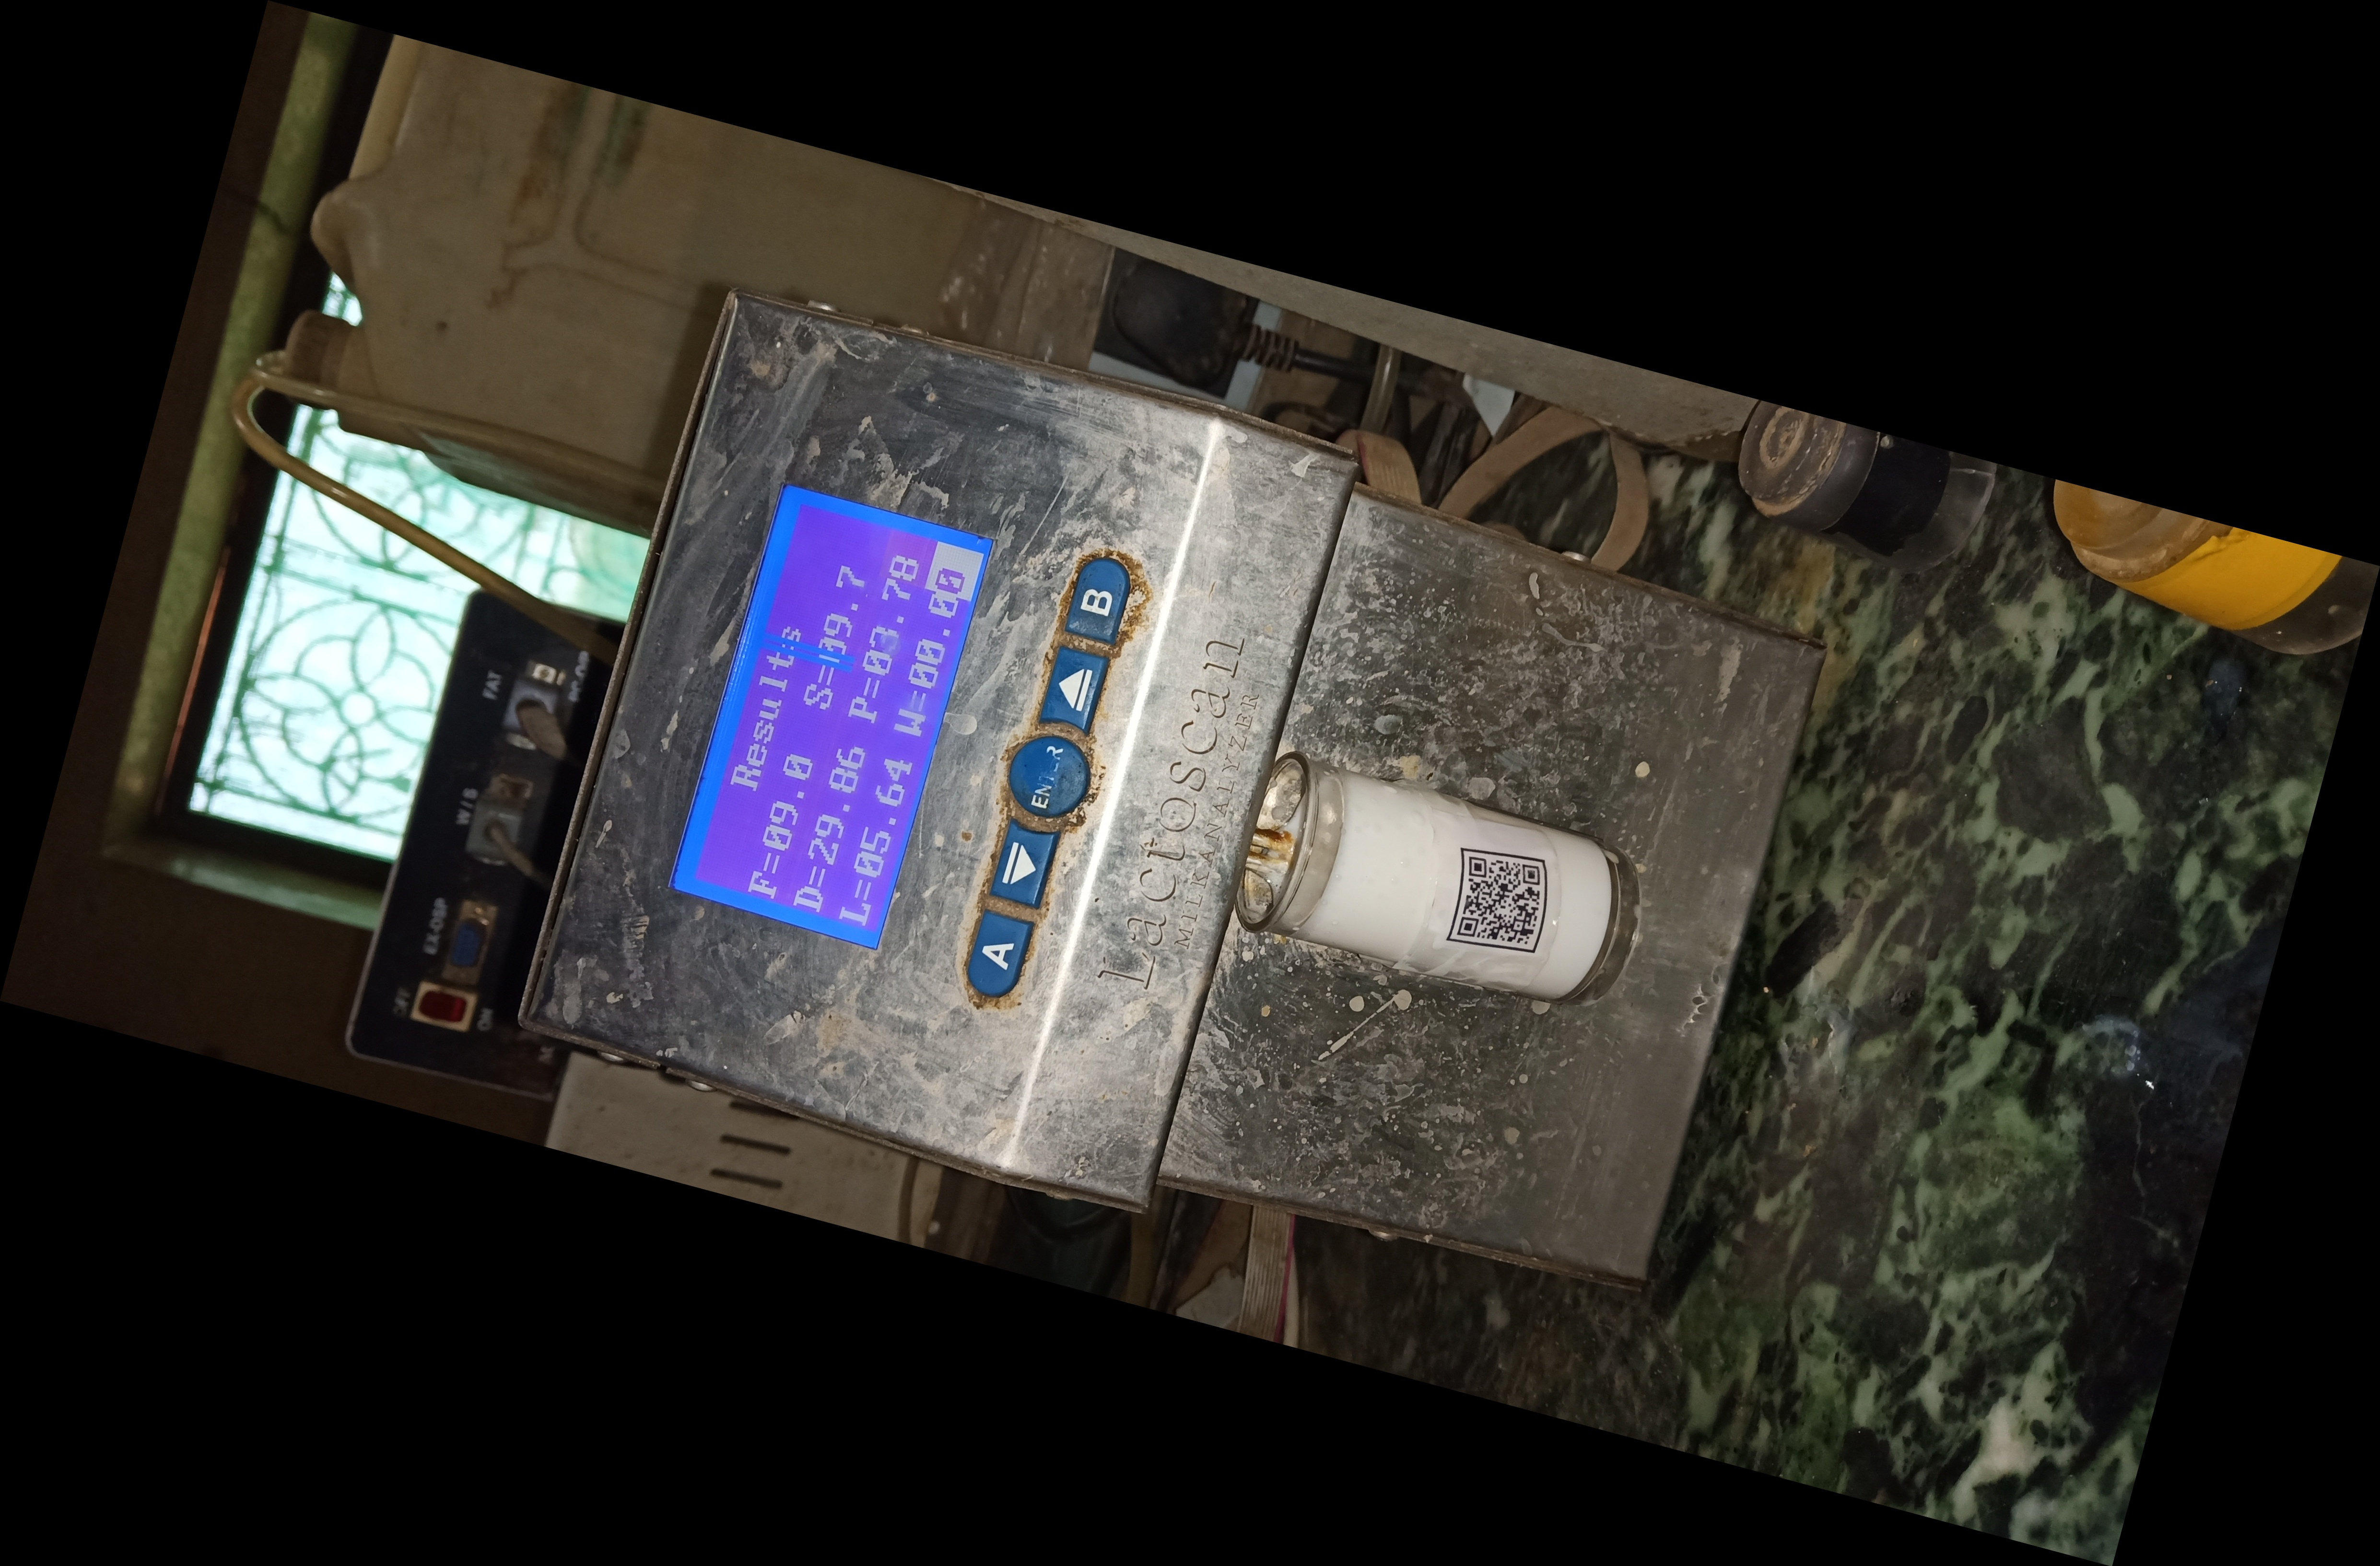lcd: (657, 475, 994, 970)
qr: (1436, 853, 1552, 958)
